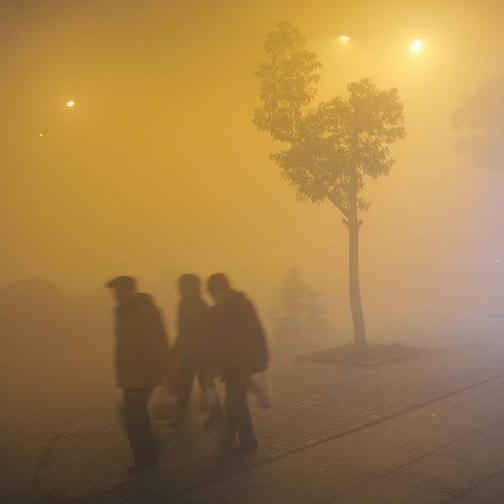person: (101, 272, 174, 481), (204, 269, 271, 461), (167, 271, 222, 430), (281, 264, 322, 322)
